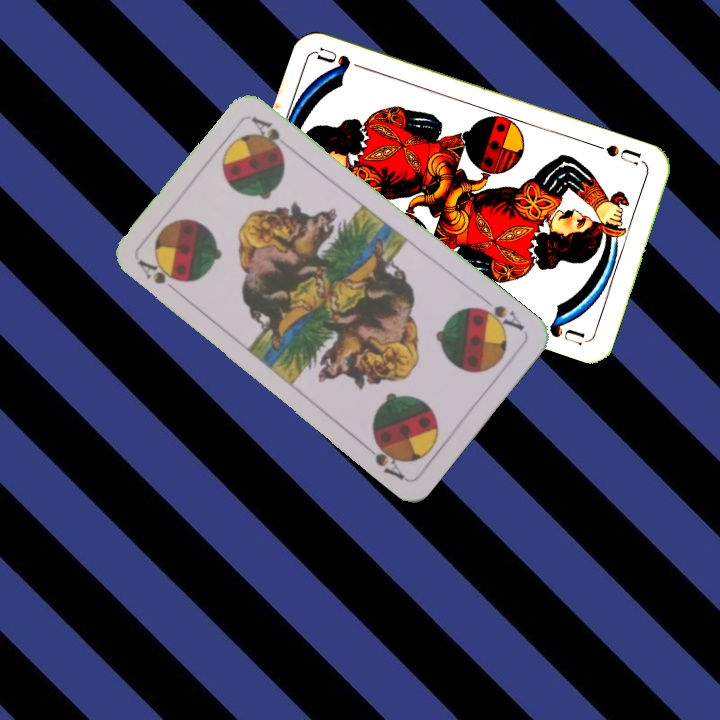SA: (472, 301, 527, 334), (133, 255, 183, 287)
SU: (591, 140, 643, 168)
